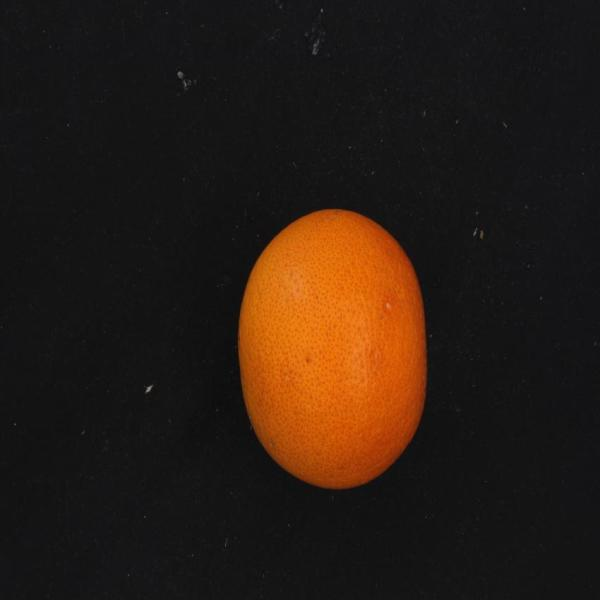Moho verde: (222, 194, 434, 504)
